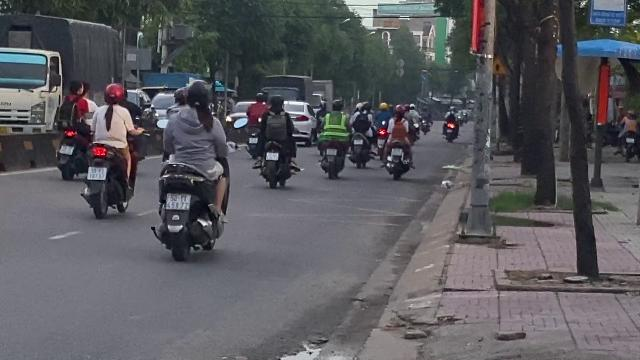helmet: (185, 80, 211, 110), (103, 82, 125, 104), (172, 86, 188, 106)
licenseplate: (166, 194, 190, 210), (86, 167, 105, 179)
motorcyclist: (148, 78, 234, 262), (82, 82, 138, 219)
